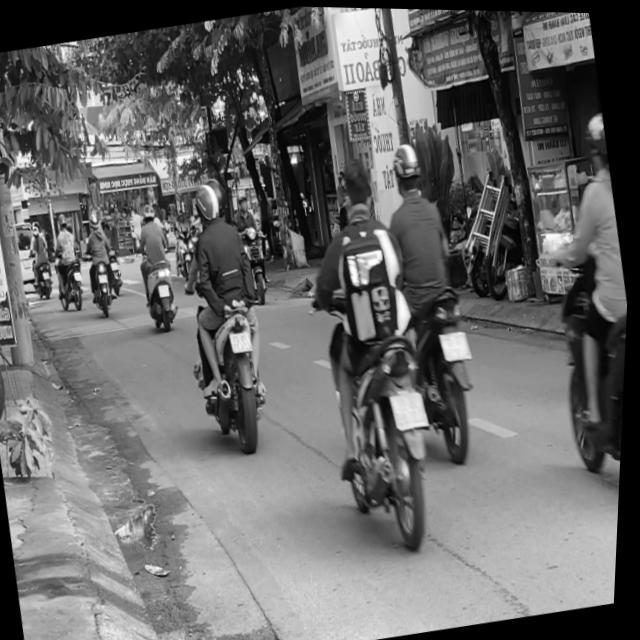helmet: (388, 137, 428, 196), (581, 106, 613, 172), (192, 178, 224, 226)
licenseplate: (279, 143, 463, 555), (512, 102, 637, 517), (363, 129, 502, 465), (161, 169, 292, 454)
motorcyclist: (336, 151, 380, 215)
nohelmet: (392, 385, 431, 426), (442, 326, 474, 357), (231, 326, 255, 350)
